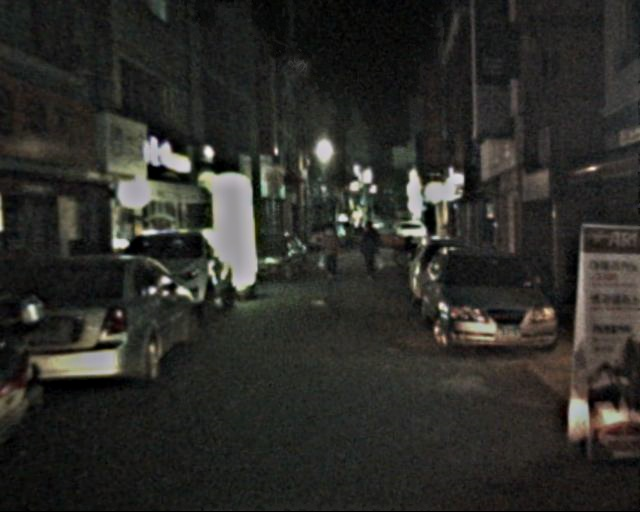person: (354, 217, 381, 283), (318, 221, 343, 283)
